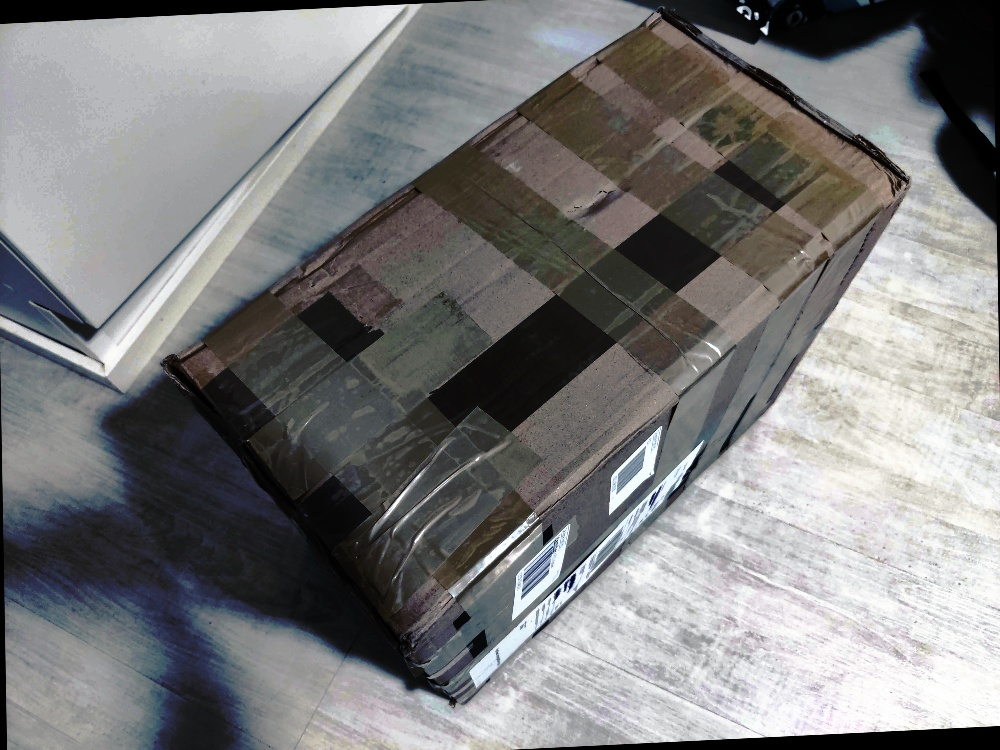good-parcel: (164, 15, 910, 713)
